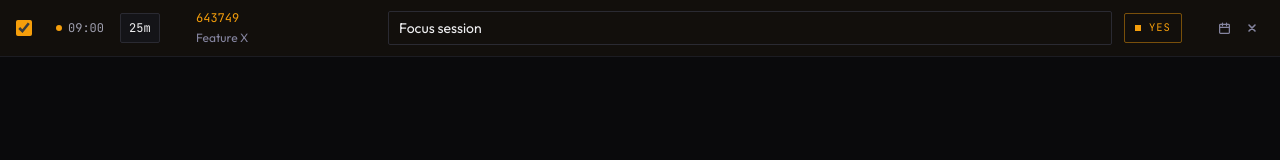
Test case: EntryRow — Dur › click → type 1h10 → Enter commits 70 minutes
Step 1. Click the button named "Duration 25m" → (140, 28), box [120,13,160,43]
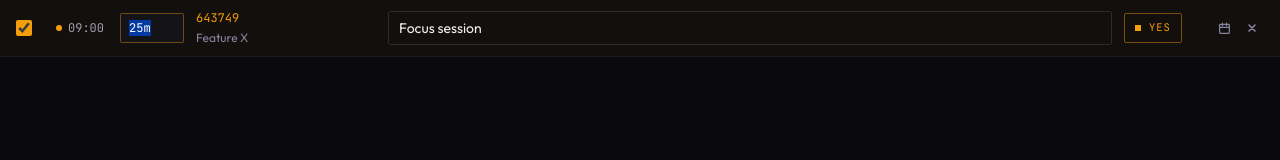
Step 2. Replace the text in the field named "Duration" with "1h10" → (152, 28), box [120,13,184,43]
Then press Enter
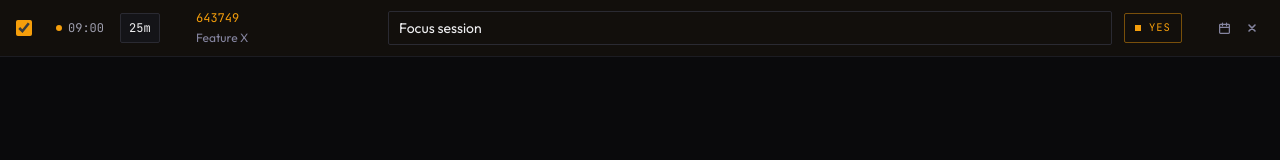
Now the field labelled "Duration" is gone
